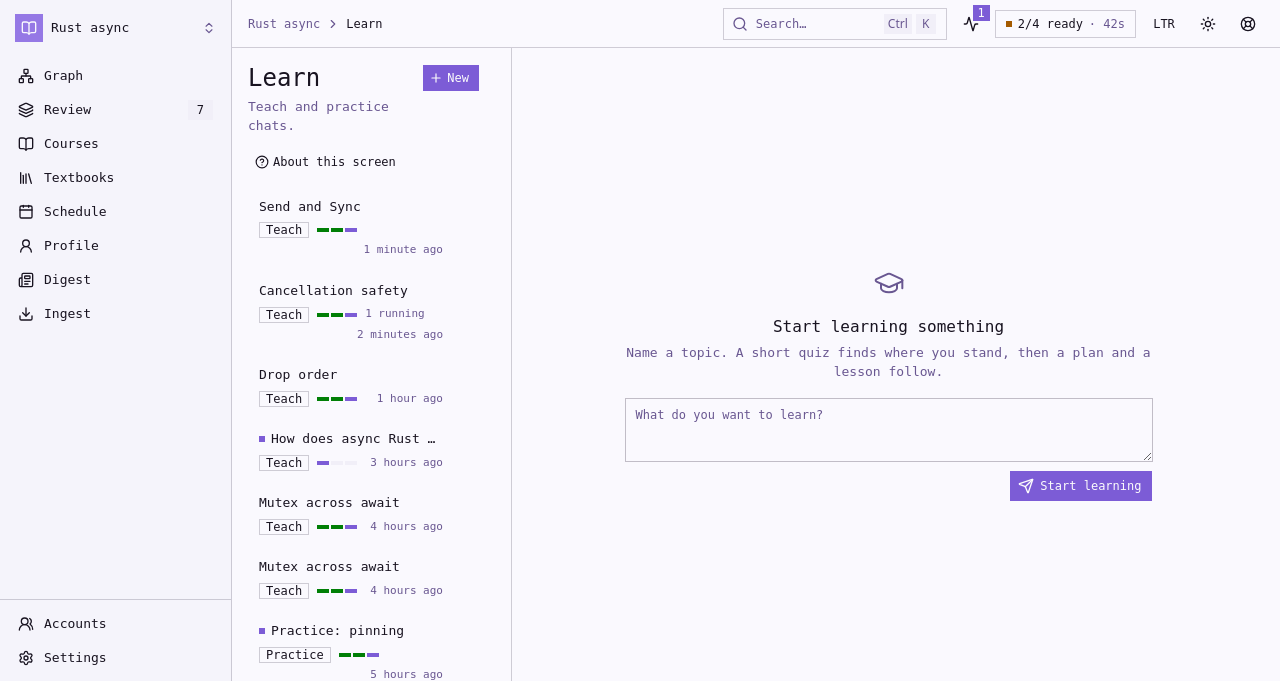
Test: classroom info › chat list guide lists the key parts
This screenshot has width=1280, height=681.
Click the button with test id "screen-guide-open": (327, 162) [248,148,407,176]
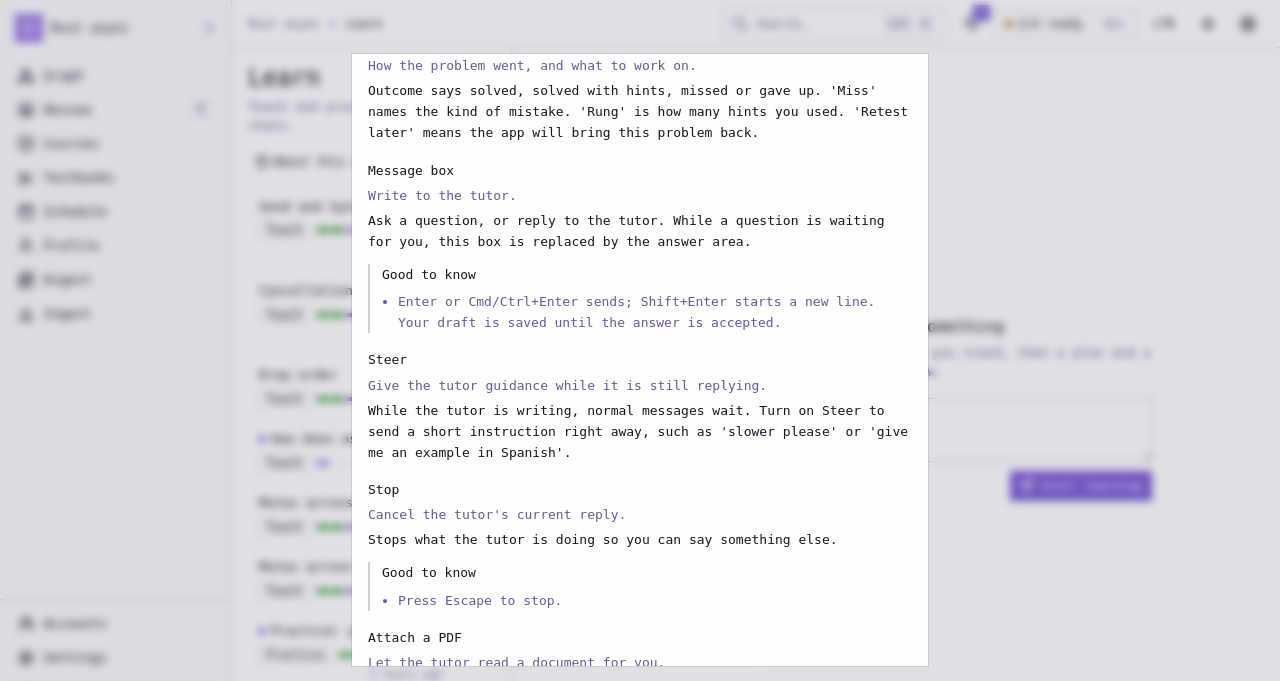
Now the text "Steer" is shown, box [368,352,407,367]
